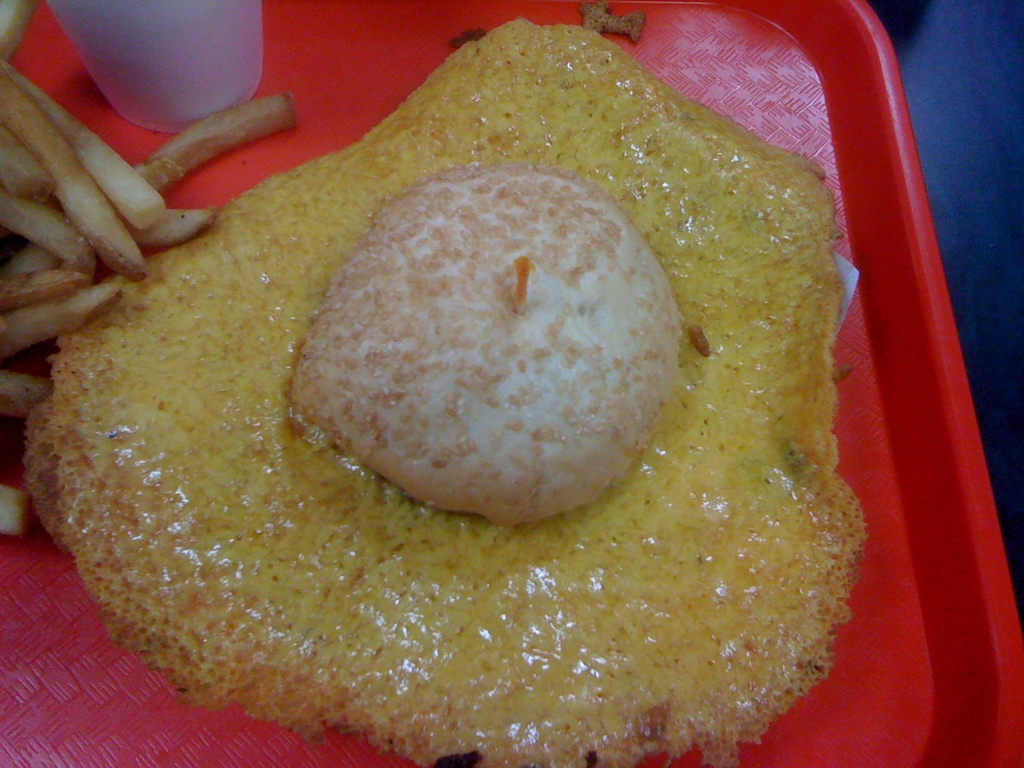French fries: (0, 76, 270, 399)
